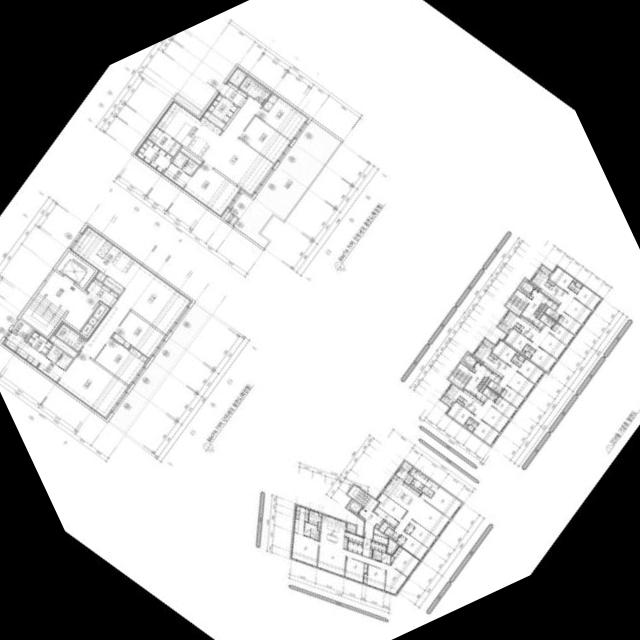background: (0, 0, 640, 640)
space_balconi: (401, 460, 413, 472), (347, 522, 356, 533)
space_bedroom: (57, 351, 130, 419), (183, 162, 241, 217), (256, 92, 310, 141), (112, 310, 167, 358), (95, 338, 150, 385), (240, 116, 292, 164), (420, 486, 463, 518), (291, 532, 319, 567), (391, 545, 420, 577), (377, 492, 407, 521), (402, 530, 429, 559), (410, 519, 437, 548), (518, 358, 545, 384), (530, 346, 557, 372), (492, 339, 517, 366), (575, 285, 602, 310), (473, 420, 500, 445), (447, 401, 475, 425), (504, 328, 532, 352), (549, 266, 574, 292), (363, 564, 386, 590), (345, 557, 368, 583), (550, 322, 575, 345), (500, 385, 525, 408), (492, 396, 517, 418), (558, 312, 582, 334), (396, 534, 407, 545), (405, 523, 415, 534)
space_dressroom: (2, 330, 45, 368), (135, 138, 173, 173), (26, 329, 53, 354), (410, 468, 429, 484), (295, 504, 309, 522), (411, 478, 424, 490)
space_elevator: (57, 251, 95, 287), (347, 499, 363, 515), (520, 278, 536, 294), (463, 352, 479, 368)
space_elevator_hall: (40, 269, 100, 331), (338, 478, 384, 539), (515, 289, 549, 321), (458, 362, 491, 394)
space_front: (85, 277, 119, 308), (219, 80, 248, 106), (374, 506, 399, 527), (371, 540, 387, 553), (348, 541, 363, 554), (363, 537, 372, 557), (546, 298, 559, 310), (533, 317, 545, 329), (489, 372, 502, 383), (475, 391, 488, 402)
space_kitchen: (70, 225, 143, 288), (156, 100, 223, 159), (382, 477, 421, 511), (474, 342, 511, 377), (531, 269, 568, 304), (501, 310, 541, 341), (444, 383, 483, 414), (320, 513, 348, 549)
space_living_room: (82, 265, 192, 359), (203, 96, 275, 197), (318, 541, 408, 594), (394, 496, 450, 537), (531, 324, 567, 359), (473, 398, 510, 432), (556, 290, 592, 324), (499, 363, 535, 397)
space_multipurpose_space: (147, 126, 182, 156)
space_other: (207, 93, 238, 123), (49, 334, 78, 357), (174, 93, 202, 116), (203, 110, 226, 128), (103, 276, 124, 294), (181, 147, 202, 164), (395, 467, 414, 484), (229, 68, 246, 86), (346, 531, 363, 545), (93, 304, 107, 319), (309, 509, 322, 525), (379, 521, 394, 532), (374, 527, 388, 538), (518, 287, 532, 298), (373, 534, 388, 544), (388, 538, 398, 553), (81, 323, 93, 335), (461, 361, 475, 371), (95, 270, 106, 281), (410, 484, 422, 493), (88, 316, 98, 326), (548, 279, 555, 286), (542, 304, 548, 312), (485, 377, 491, 385), (514, 326, 522, 332), (480, 384, 486, 392), (537, 311, 543, 318), (457, 399, 464, 405), (491, 353, 498, 359), (358, 515, 365, 520), (391, 555, 395, 563), (393, 474, 398, 479), (318, 522, 321, 530), (375, 524, 380, 528), (540, 303, 544, 308), (483, 376, 487, 381), (480, 380, 484, 384), (537, 307, 541, 311), (573, 278, 577, 282), (535, 311, 539, 315), (478, 384, 482, 388), (521, 350, 525, 354), (516, 351, 520, 355), (319, 512, 322, 516), (479, 360, 482, 363), (464, 424, 467, 427), (537, 287, 539, 289)
space_outdoor_room: (12, 318, 31, 337), (224, 211, 238, 225), (498, 322, 511, 333), (441, 395, 454, 406), (540, 265, 552, 276), (483, 338, 495, 349)
space_staircase: (21, 290, 67, 336), (506, 294, 528, 315), (449, 367, 471, 388), (350, 484, 372, 502)
space_toilet: (163, 151, 199, 188), (37, 345, 73, 382), (55, 323, 86, 351), (239, 76, 270, 103), (304, 522, 320, 540), (385, 527, 400, 541), (545, 306, 560, 320), (483, 387, 498, 401), (540, 314, 555, 327), (488, 380, 503, 393), (425, 479, 439, 492), (294, 518, 305, 534), (511, 354, 523, 366), (569, 281, 580, 293), (523, 344, 536, 354), (466, 417, 478, 427), (382, 552, 391, 564), (421, 485, 430, 494), (426, 488, 435, 497), (373, 553, 382, 561), (373, 549, 382, 556), (575, 281, 583, 288), (467, 424, 475, 431), (525, 351, 532, 358), (518, 355, 525, 362)
